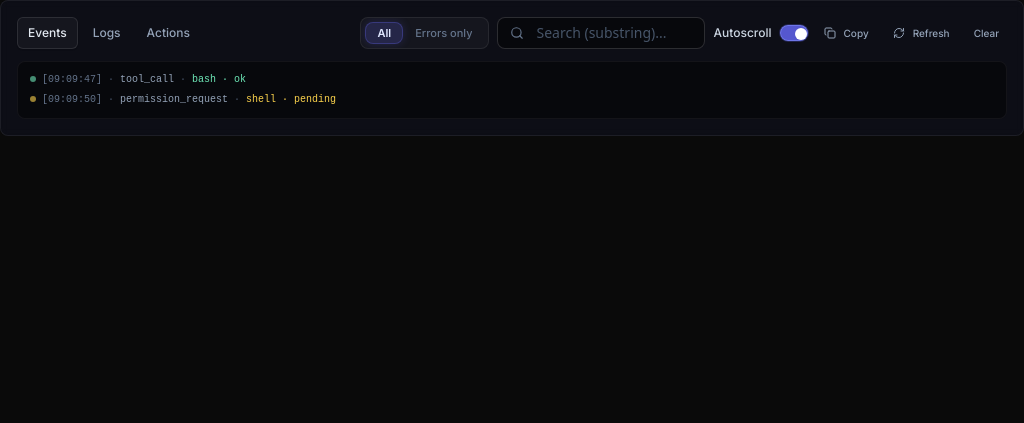
Test: DevboxConsole tabs › switching to actions renders the table with exit codes and payload expansion
Click the button with test id "devbox-console-tab-actions" at (168,33), box 136,17 -> 201,49
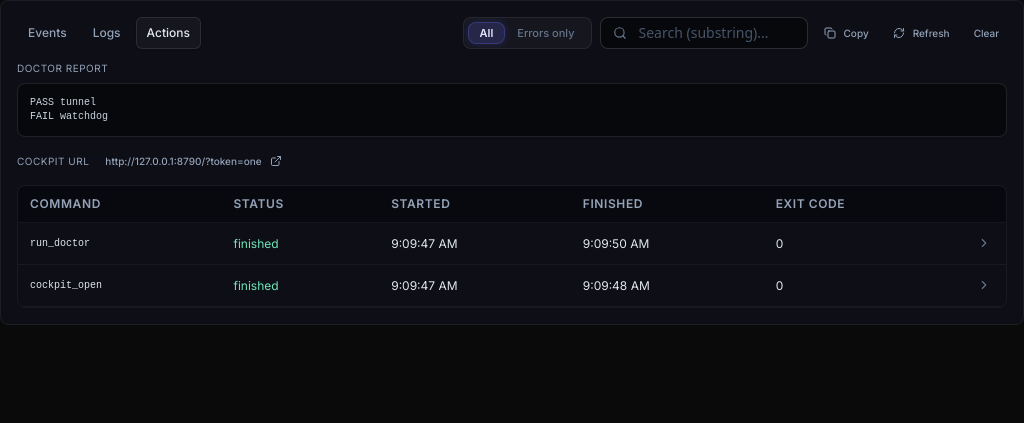
Result: the text "run_doctor" is shown at 18,222 -> 222,264
Result: the button with test id "devbox-cockpit-url" reads "http://127.0.0.1:8790/?token=one" at 97,149 -> 290,173
Click the button with test id "devbox-action-payload-a2" at (984,243), box 974,233 -> 994,253
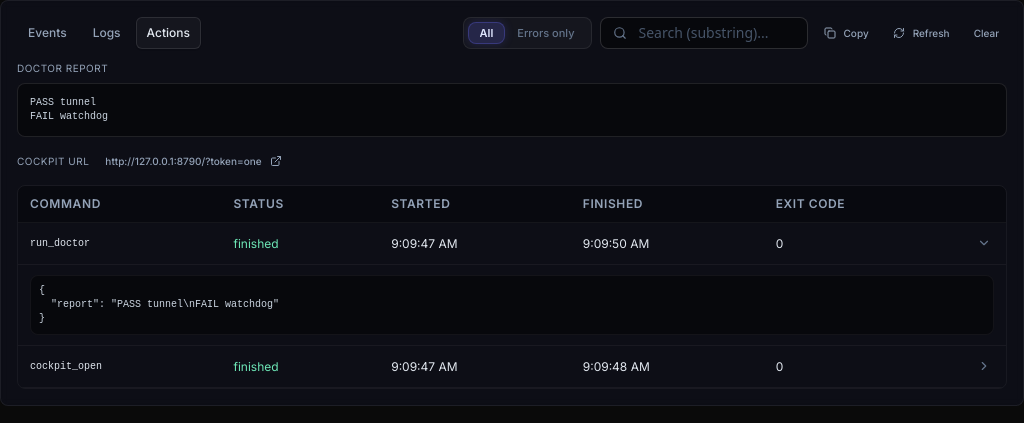
Result: the text "{ \"report\": \"PASS tunnel\\nFAIL watchdog\" }" is shown at 30,275 -> 994,335
